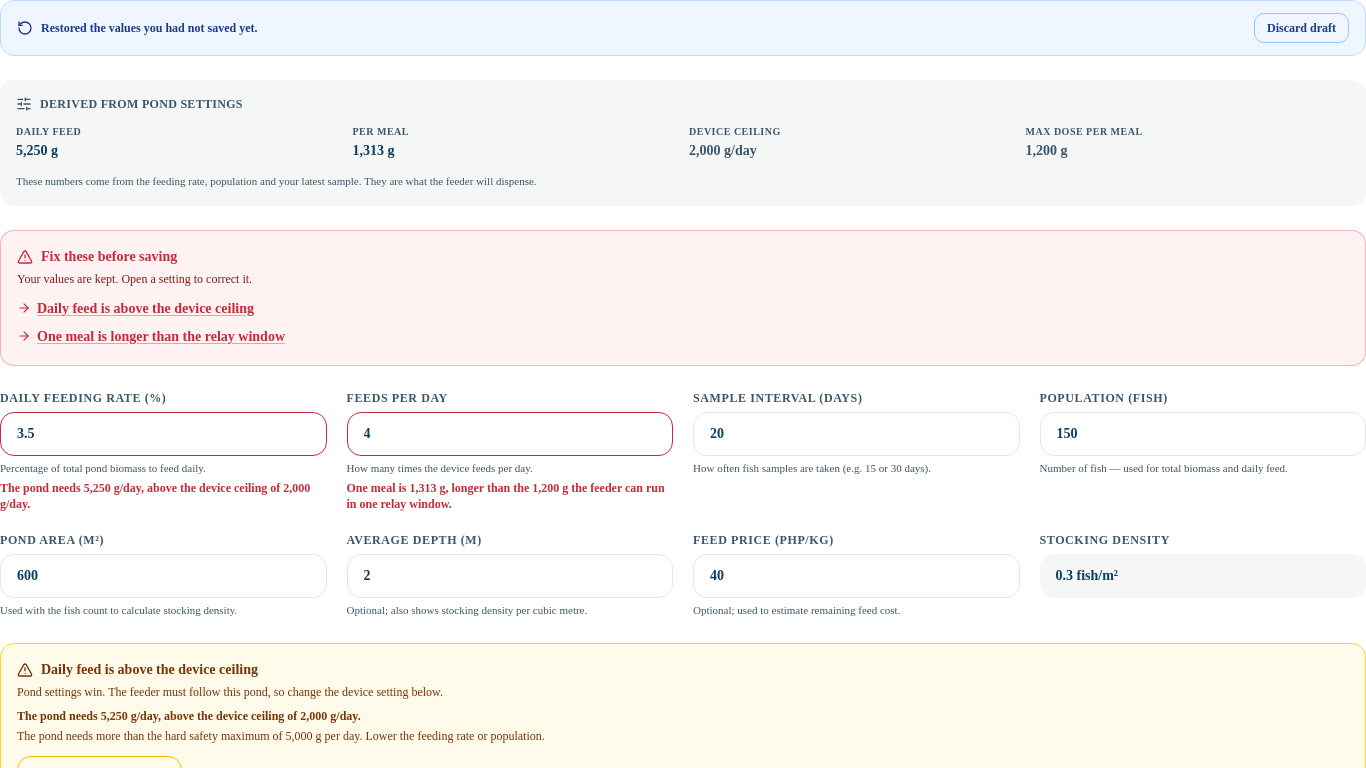
Test: a restored draft › brings back unsaved values and can be discarded
This screenshot has width=1366, height=768.
expect the text "Restored the values you had not saved yet." is shown: met, box [17,20,258,36]
expect the number field labelled "Feeds Per Day" holds "4": met, box [346,412,673,456]
Click the button "Discard draft" at x=1302, y=28, box [1254,13,1349,43]
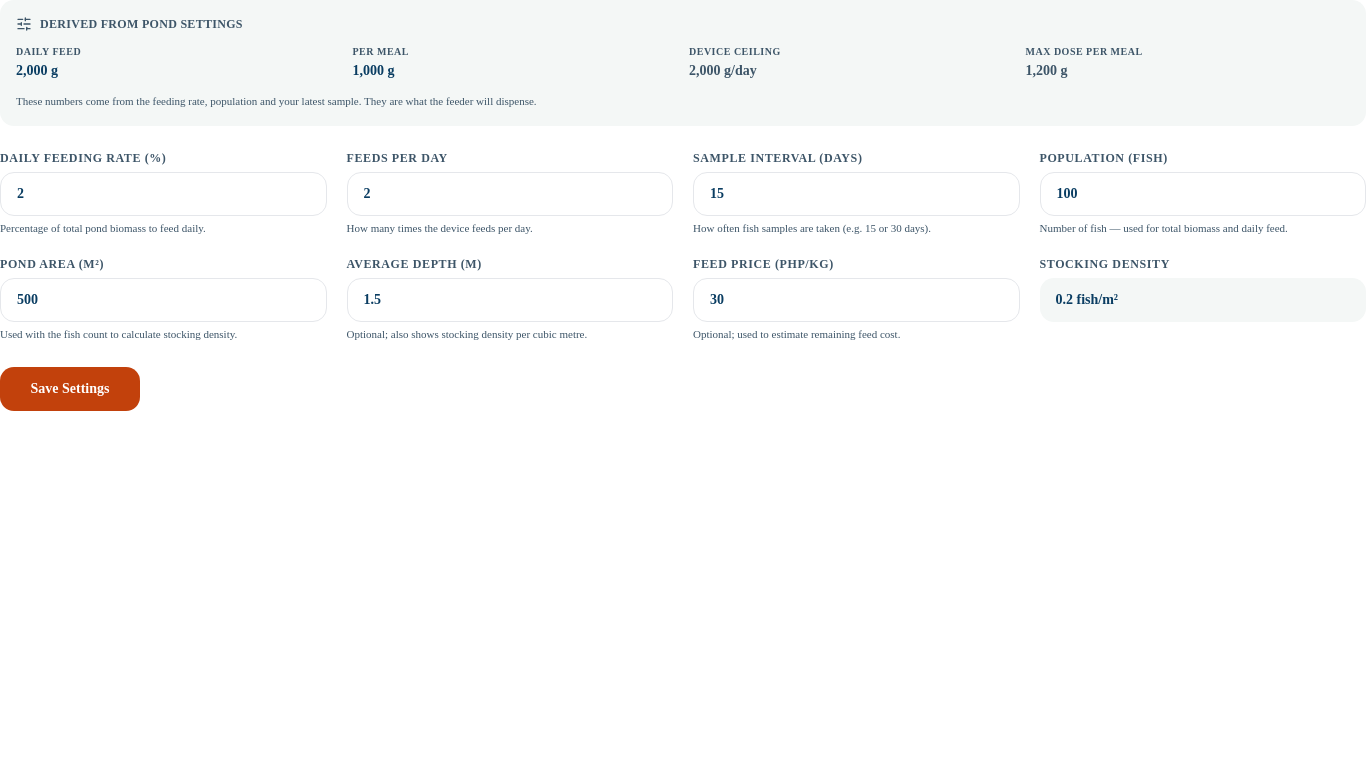
expect the number field labelled "Feeds Per Day" holds "2": met, box [346,172,673,216]
